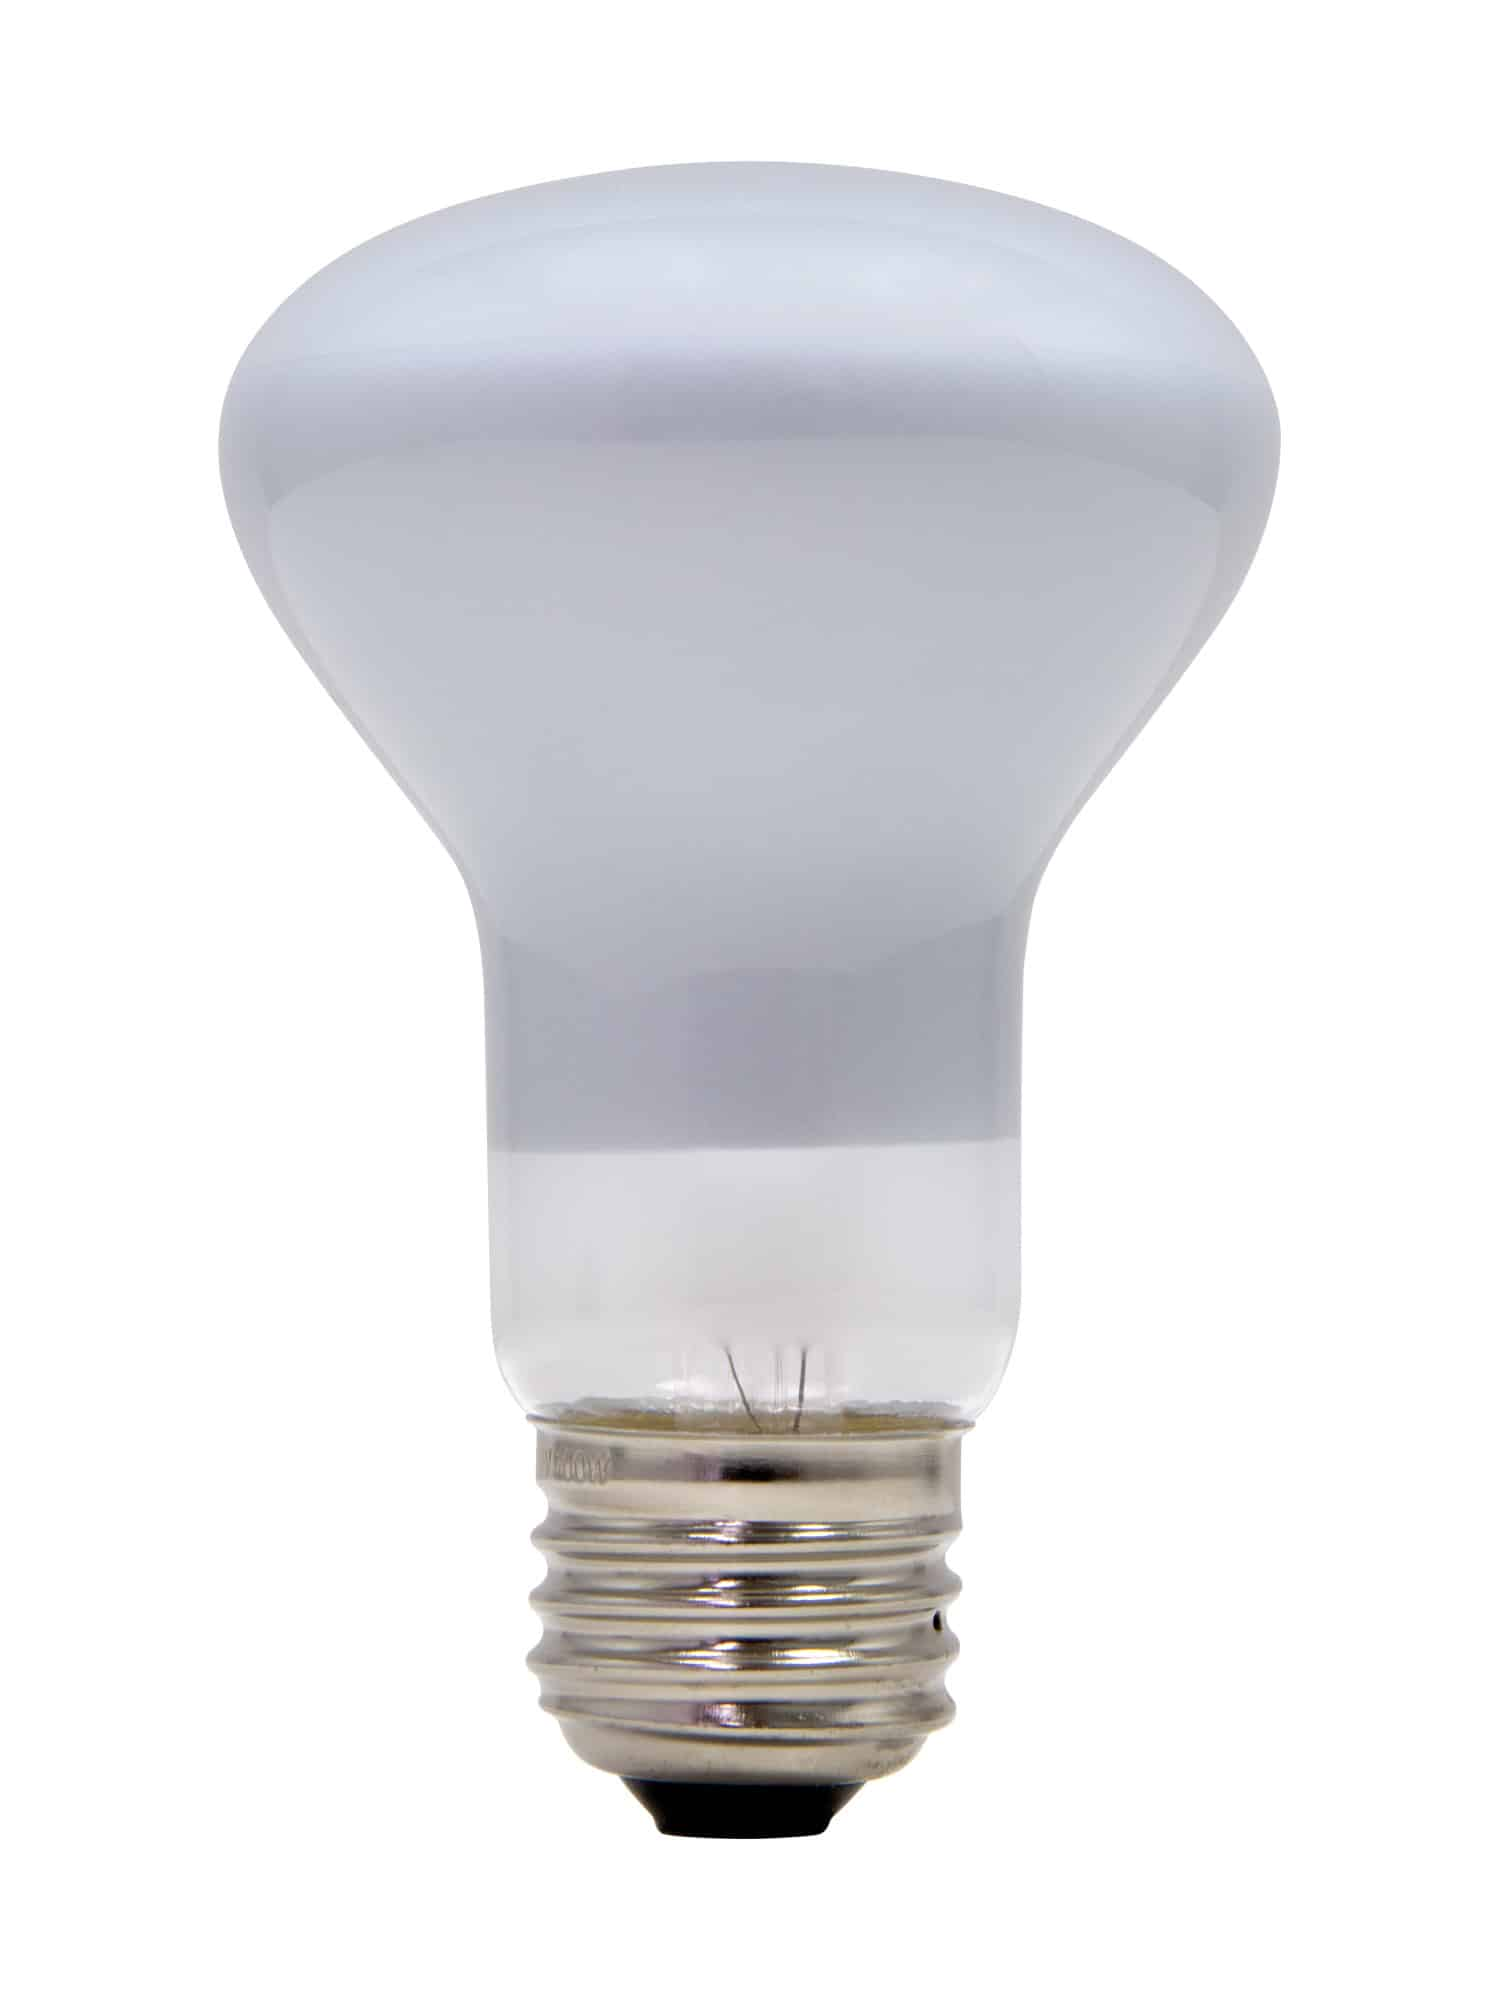Nonrec_Glass: (134, 107, 1339, 1863)
